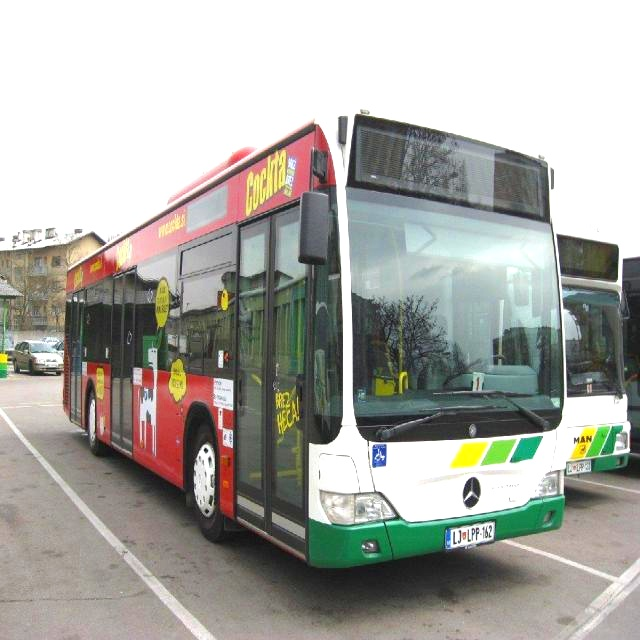bus: (1, 121, 595, 560), (517, 195, 640, 493)
